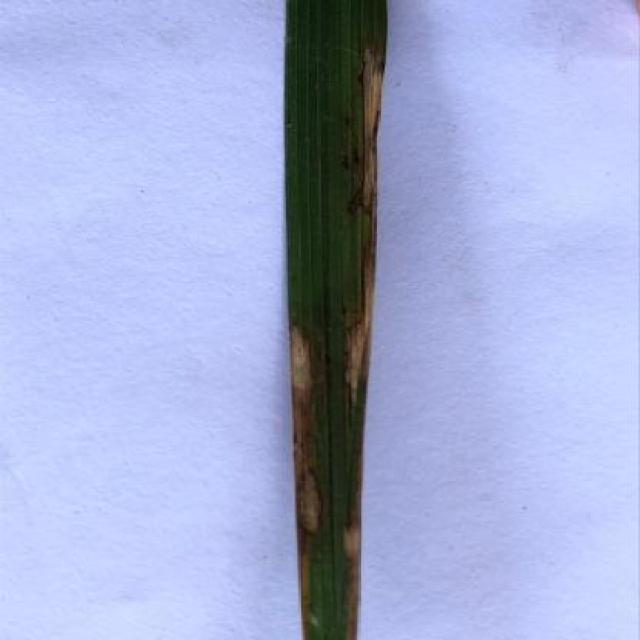Brown_Spot: (274, 0, 394, 638)
